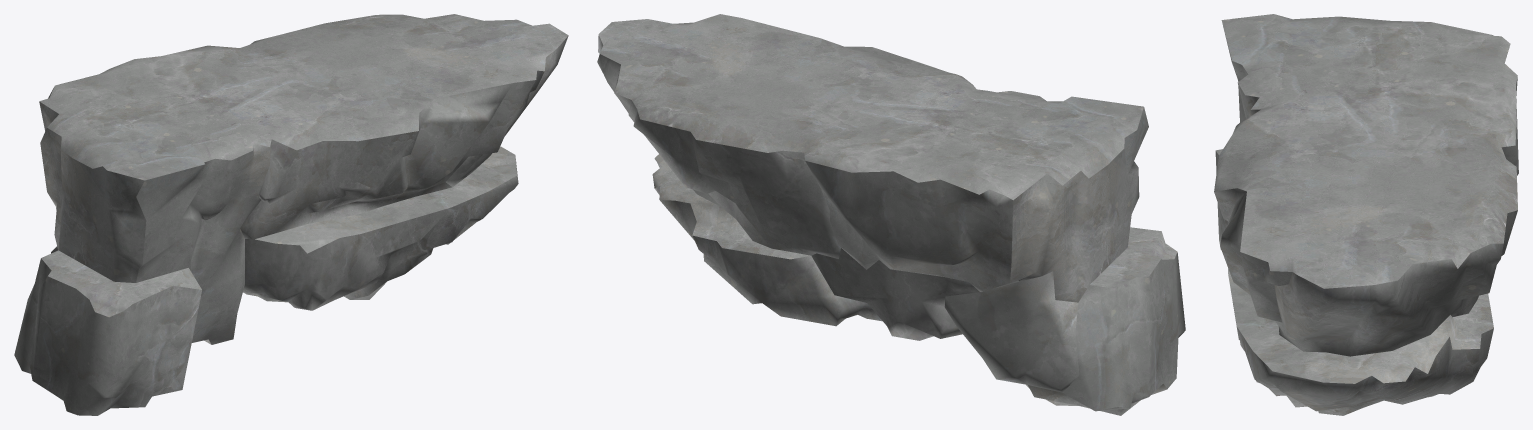
The model's file is SM_Com_Roc_09AS.fbx.
The picture shows the model from 3 angles, left to right: view 1: azimuth 30°, elevation 25°; view 2: azimuth 150°, elevation 25°; view 3: azimuth 270°, elevation 25°; orthographic projection. The views are drawn at different scales.
Visible parts, largest first — view 1: SM_Com_Roc_09AS.mo; view 2: SM_Com_Roc_09AS.mo; view 3: SM_Com_Roc_09AS.mo.
Part boxes in pixels (<box>): SM_Com_Roc_09AS.mo: <box>14,14,568,415</box>; SM_Com_Roc_09AS.mo: <box>597,14,1185,415</box>; SM_Com_Roc_09AS.mo: <box>1214,14,1518,415</box>.
Size of the model in its own units: 46.7 by 20.96 by 19.98.
